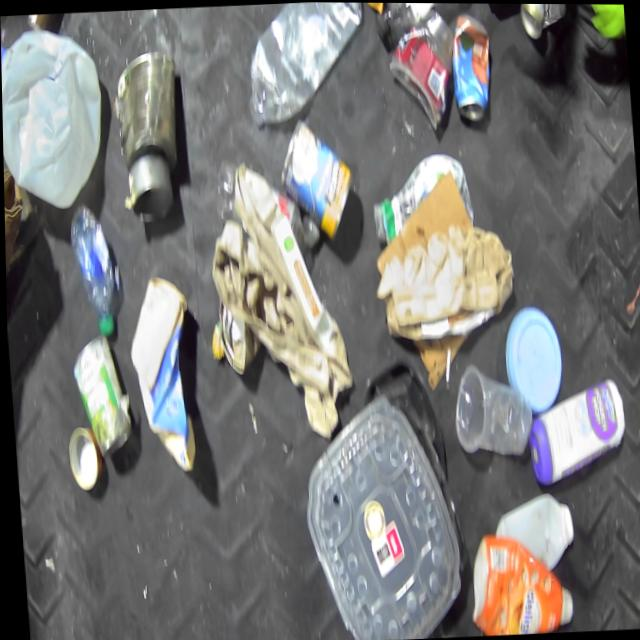can: (277, 122, 358, 244), (71, 332, 130, 449), (451, 11, 495, 123), (66, 424, 100, 489), (520, 3, 570, 44)
milk_jug: (0, 26, 100, 179)
plastic_bottle: (243, 1, 372, 129), (372, 2, 473, 40)
